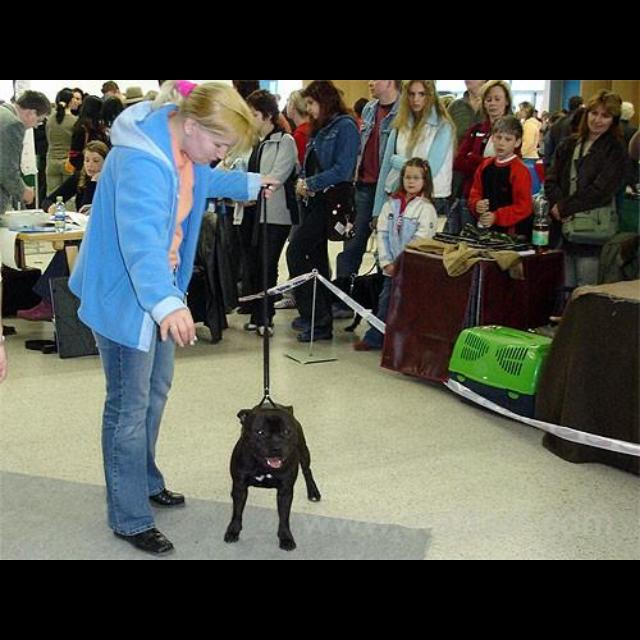face: (181, 112, 239, 169), (304, 81, 345, 125), (246, 91, 280, 135), (587, 94, 618, 139), (492, 118, 524, 159), (400, 160, 431, 196), (482, 83, 511, 117), (405, 82, 433, 114), (24, 97, 50, 131), (84, 144, 107, 181), (365, 81, 400, 105)
person: (69, 82, 280, 556), (288, 82, 363, 344), (228, 91, 300, 337), (543, 94, 626, 307), (353, 159, 439, 354), (344, 82, 408, 313), (369, 82, 457, 237), (450, 82, 515, 243), (464, 119, 534, 242), (2, 90, 53, 227), (55, 143, 123, 216), (46, 90, 78, 208)
staffford: (224, 403, 321, 552)
